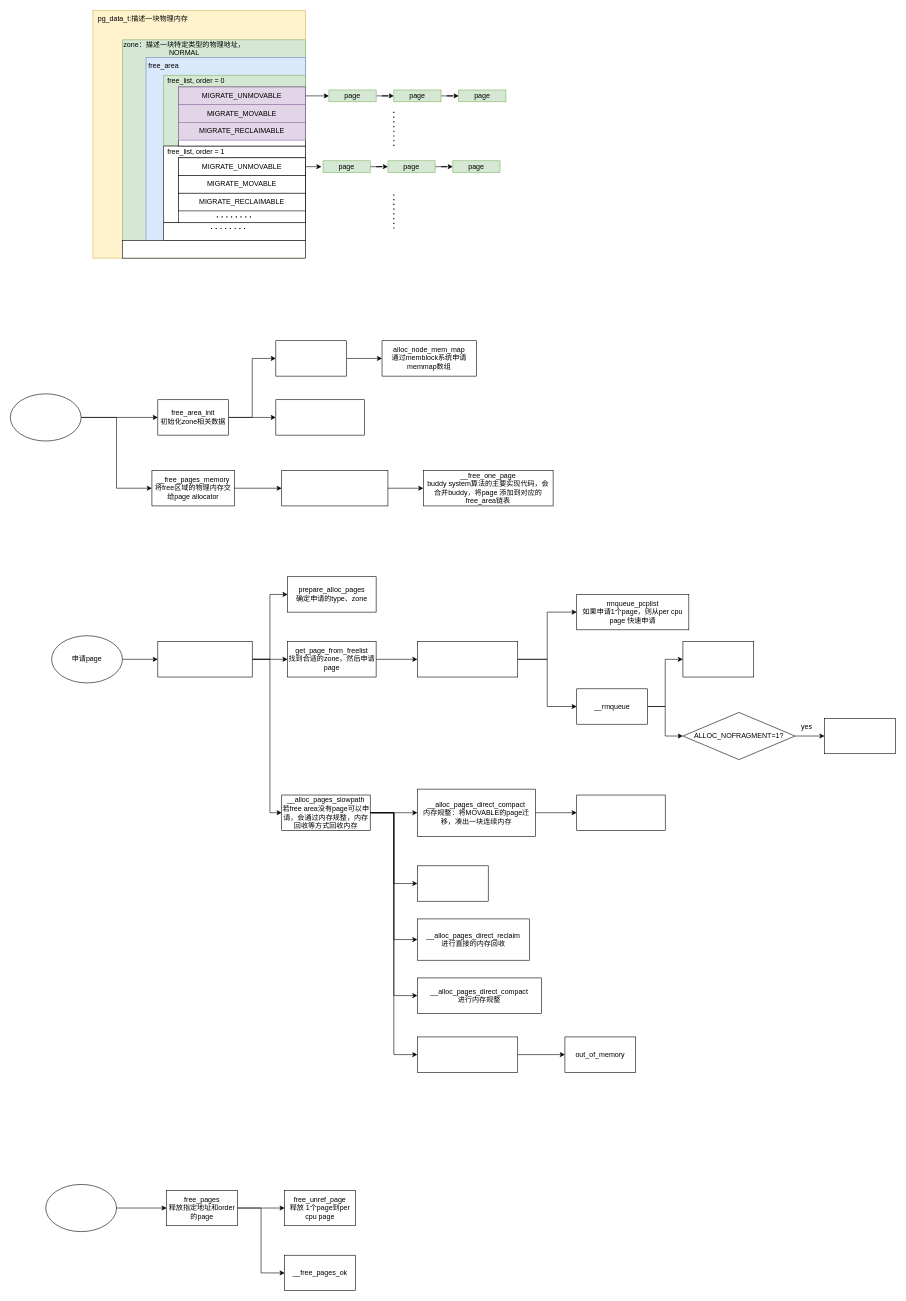
The diagram is 906 pixels wide and 1301 high, and some of its shapes have lost their labels. The centre of each missing label's shape, as x and y in pixels:
"__alloc_pages_may_oom" belongs at (467,1054).
"__alloc_pages_nodemask" belongs at (204,659).
"__free_pages_ok 确定页面的类型，关闭本地中断" belongs at (334,488).
"__rmqueue_fallback 检查能否从其他类型的page中申请" belongs at (859,736).
"__rmqueue_smallest 遍历free_area链表，找到合适的pageblock" belongs at (718,659).
"free_area_init_node 初始化zone对象" belongs at (311,358).
"memblock" belongs at (45,417).
"memmap_init 初始化memmap数组里的每个page，并将page 设置为MOVABLE" belongs at (319,417).
"rmqueue 在zone对应类型的free_list中申请page，需要关闭本地中断以及加zone lock" belongs at (467,659).
"try_to_compact_pages 内存规整算法，实现在另一个源文件" belongs at (620,812).
"wakeup kswap线程 进行异步内存回收" belongs at (452,883).
"zone: DMA" belongs at (213,249).
"释放page" belongs at (81,1208).
